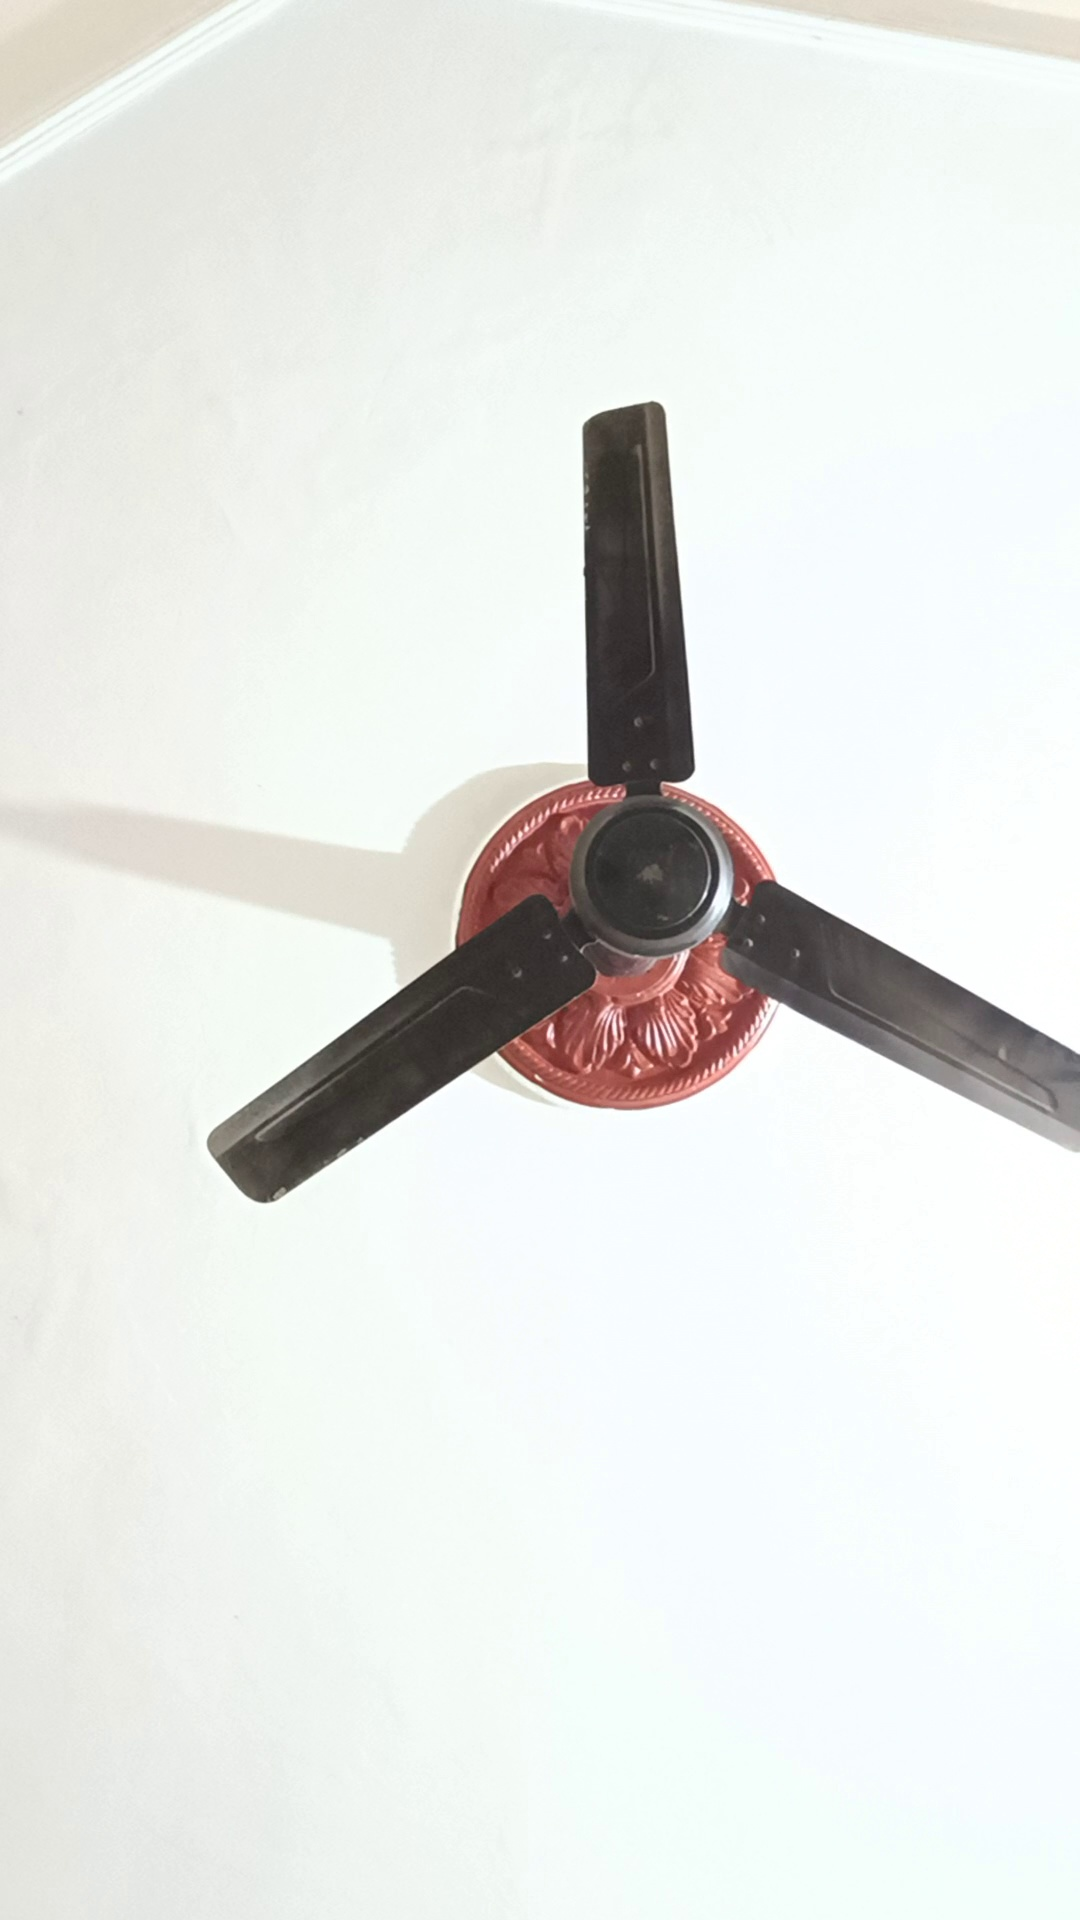fan: (204, 388, 1080, 1233)
